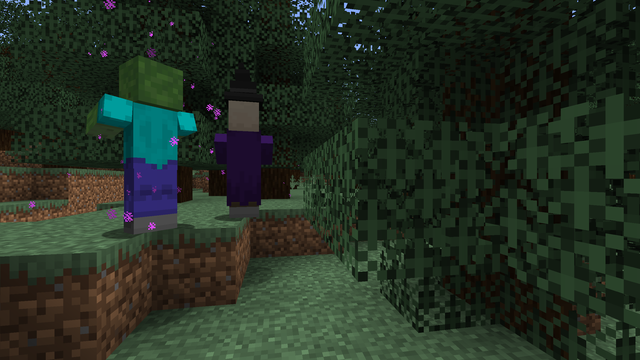sorcieres: (222, 94, 263, 219)
zombies: (109, 59, 185, 235)
